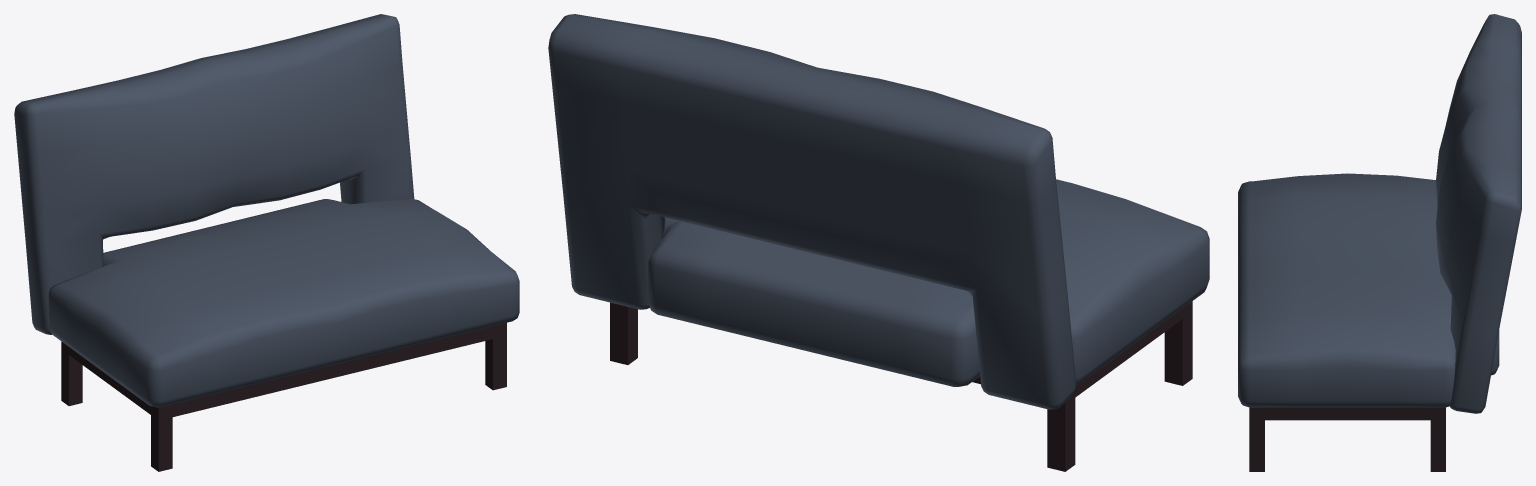
File: Prop_Sofa_04.fbx
The picture shows the model from 3 angles, left to right: view 1: azimuth 30°, elevation 25°; view 2: azimuth 150°, elevation 25°; view 3: azimuth 270°, elevation 25°; orthographic projection. The views are drawn at different scales.
Parts seen in each view (by area): view 1: Prop_Sofa_04; view 2: Prop_Sofa_04; view 3: Prop_Sofa_04.
Part boxes in pixels (<box>): Prop_Sofa_04: <box>14,14,519,471</box>; Prop_Sofa_04: <box>548,14,1209,471</box>; Prop_Sofa_04: <box>1238,14,1521,471</box>.
Size of the model in its own units: 152 by 109 by 99.23.
